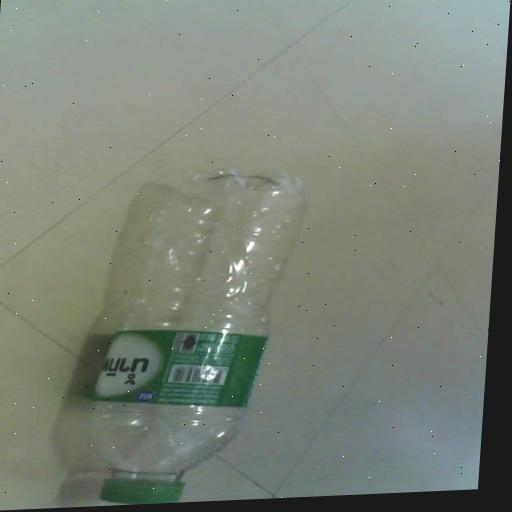bottle: (46, 146, 345, 508)
